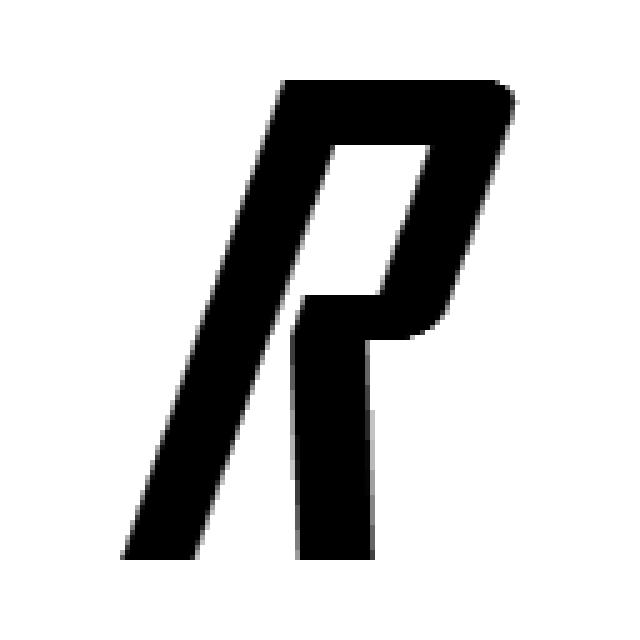R: (115, 70, 520, 565)
